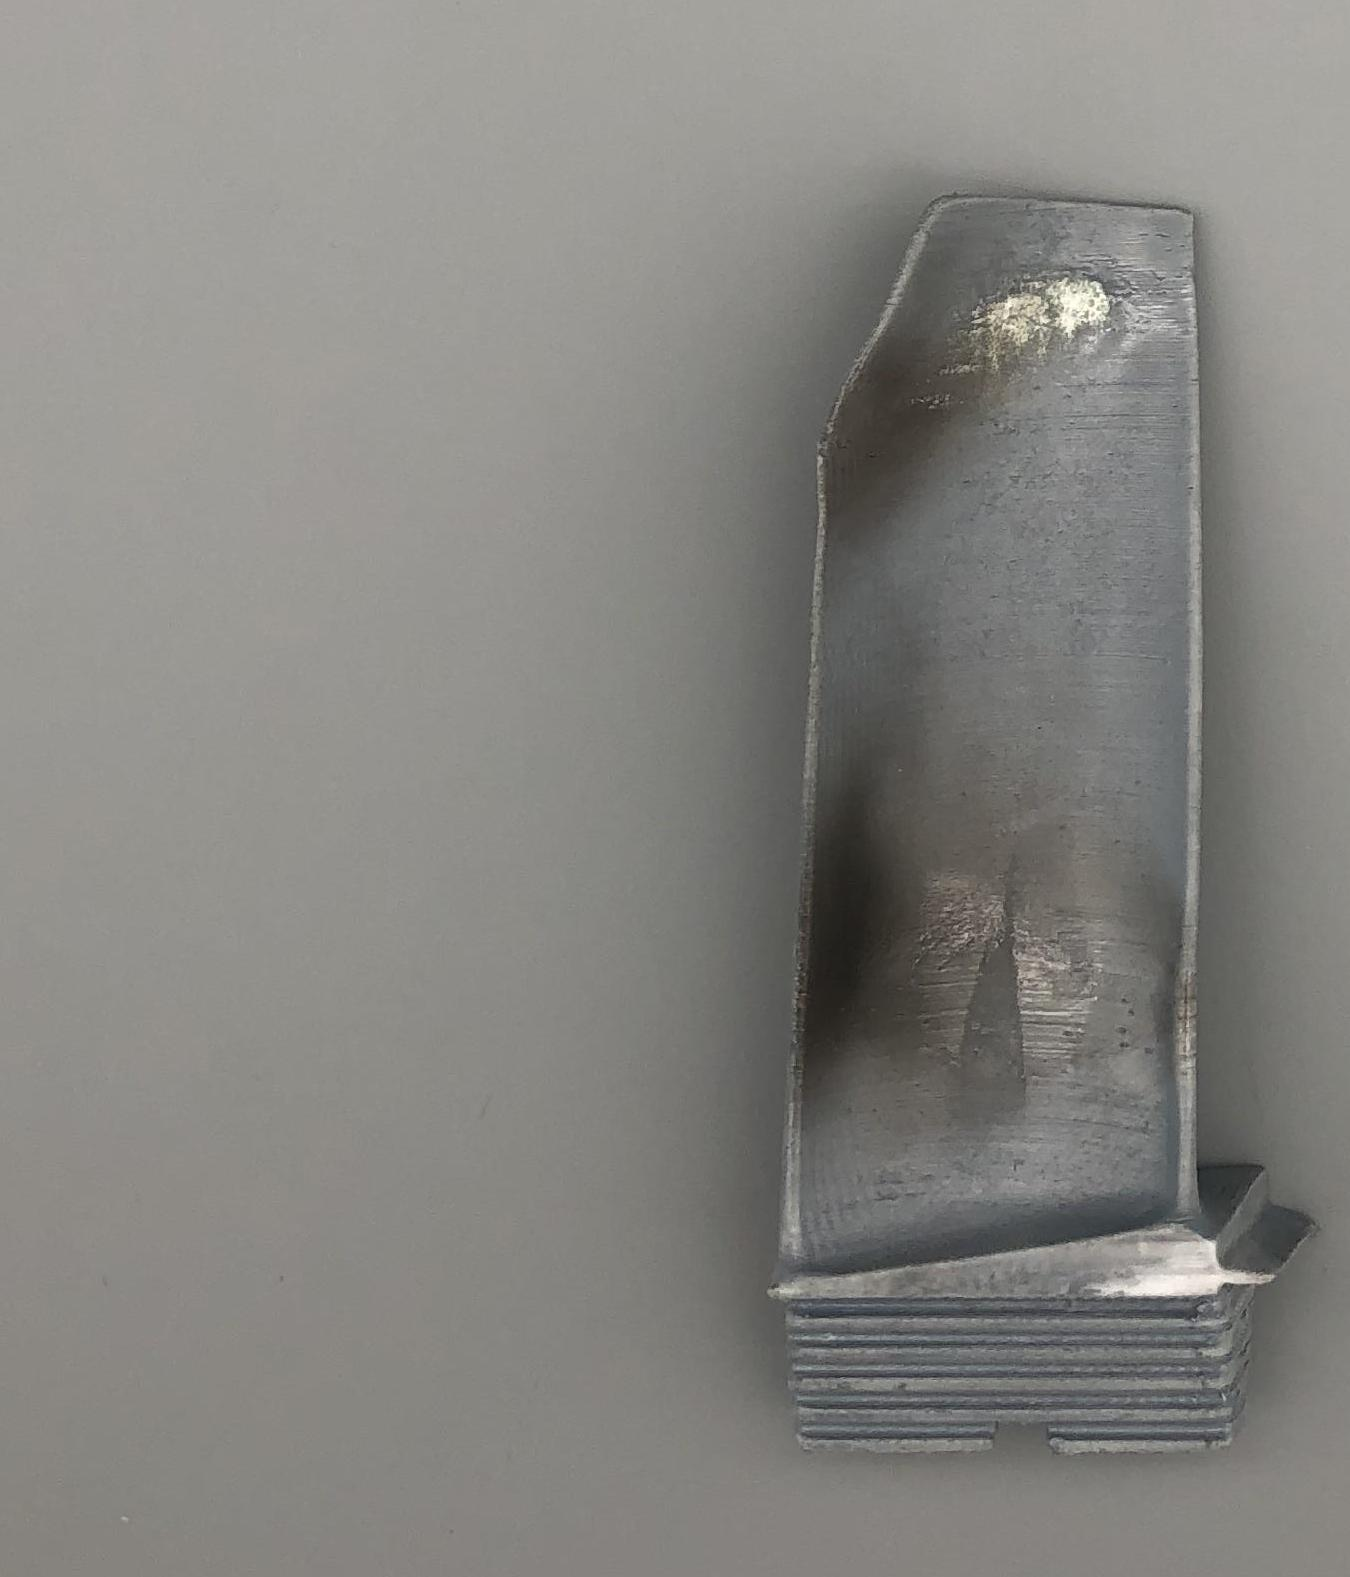ablation: (808, 805, 1025, 1086), (864, 331, 994, 490)
